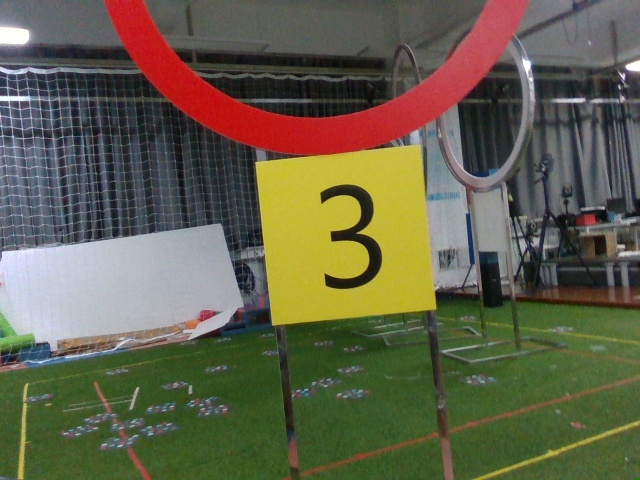target: (273, 154, 428, 318)
